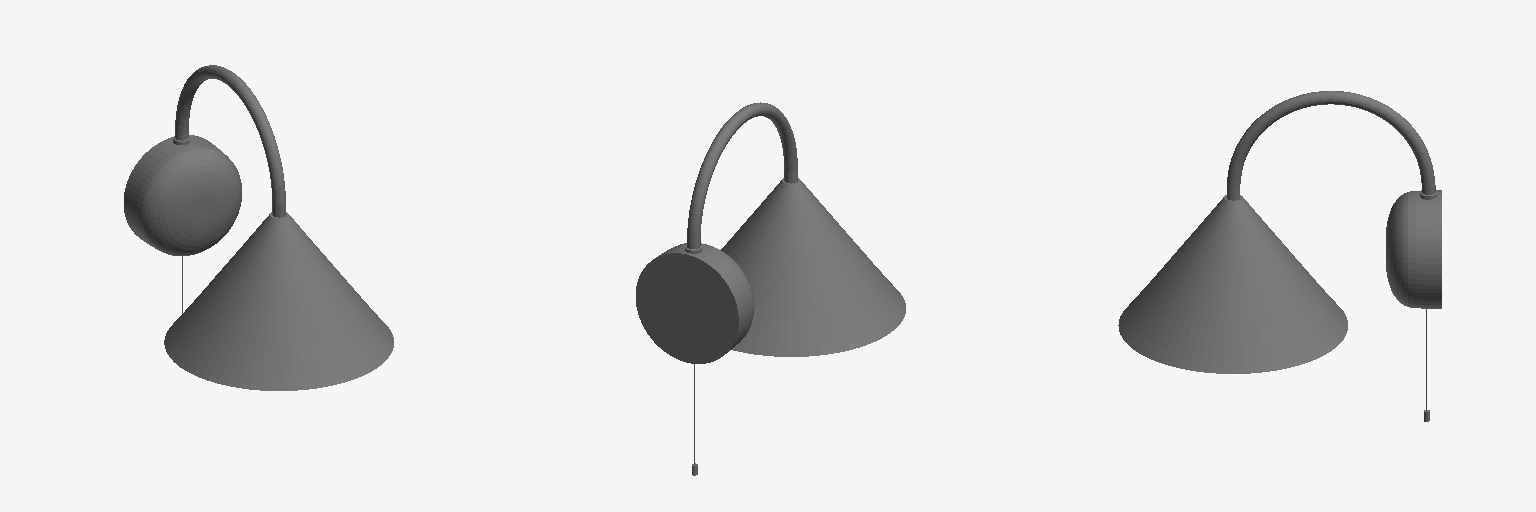
Rendered from wall_lamp.obj.
The picture shows the model from 3 angles: view 1: azimuth 30°, elevation 25°; view 2: azimuth 150°, elevation 25°; view 3: azimuth 270°, elevation 25°; orthographic projection.
Parts seen in each view (by area): view 1: lamp_Cylinder.004; view 2: lamp_Cylinder.004; view 3: lamp_Cylinder.004.
Part boxes in pixels (x1,y1,x2,y2): lamp_Cylinder.004: (124, 65, 393, 390); lamp_Cylinder.004: (636, 102, 905, 475); lamp_Cylinder.004: (1118, 91, 1441, 421).
Size of the model in its own units: 0.1957 by 0.3091 by 0.2749.